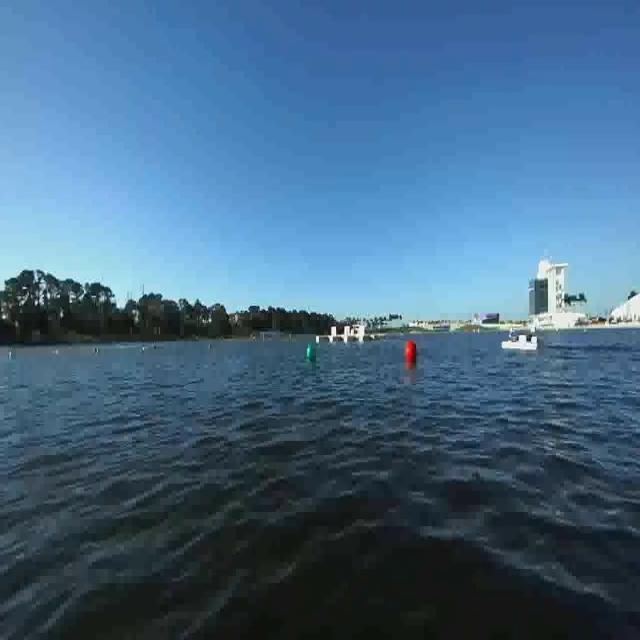green-column-buoy: (304, 342, 314, 363)
red-column-buoy: (408, 342, 418, 363)
